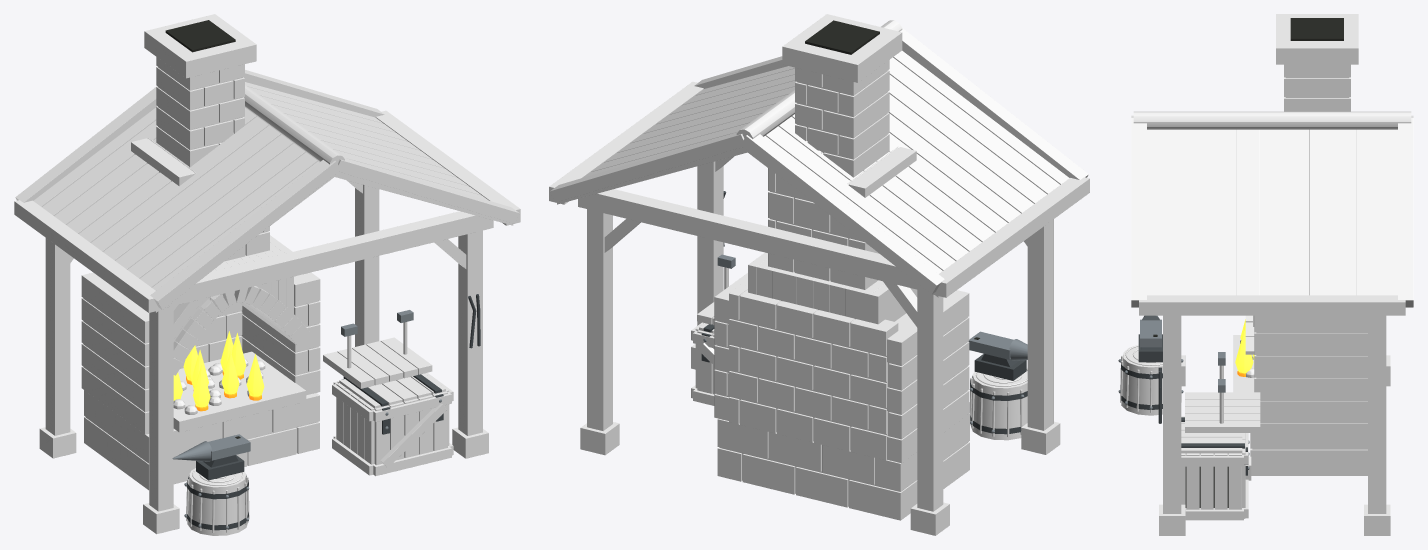
The model's file is 06_blacksmith_forge.glb.
The picture shows the model from 3 angles, left to right: view 1: azimuth 30°, elevation 25°; view 2: azimuth 150°, elevation 25°; view 3: azimuth 270°, elevation 25°; orthographic projection. The views are drawn at different scales.
Parts seen in each view (by area): view 1: 06_blacksmith_forge; view 2: 06_blacksmith_forge; view 3: 06_blacksmith_forge.
Part boxes in pixels (x1,y1,x2,y2): 06_blacksmith_forge: [14, 14, 520, 535]; 06_blacksmith_forge: [549, 14, 1089, 535]; 06_blacksmith_forge: [1118, 14, 1413, 535].
Bounding box in the file's own units: 4.63 × 4.88 × 3.21.
